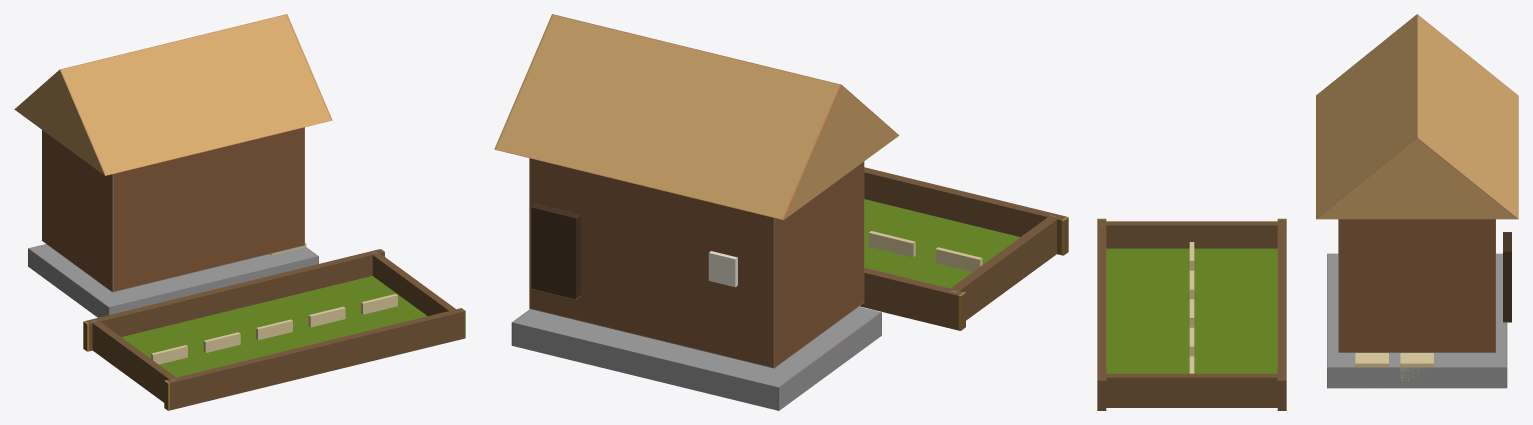
The model's file is Farm.fbx.
The picture shows the model from 3 angles, left to right: view 1: azimuth 30°, elevation 25°; view 2: azimuth 150°, elevation 25°; view 3: azimuth 270°, elevation 25°; orthographic projection. The views are drawn at different scales.
Parts seen in each view (by area): view 1: Farm; view 2: Farm; view 3: Farm.
Boxes of the visible parts, x1,y1,x2,y2 form: Farm: [14, 14, 465, 410]; Farm: [494, 14, 1068, 410]; Farm: [1097, 14, 1518, 410].
Size of the model in its own units: 170 by 125 by 187.
1 material, 1 textured.
